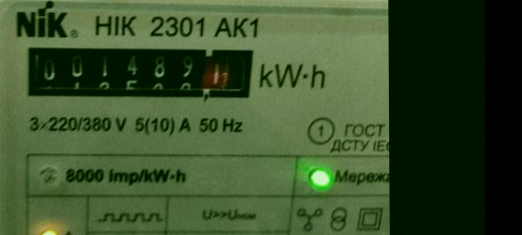0: (68, 54, 84, 79), (41, 58, 56, 83)
1: (97, 53, 111, 82), (209, 58, 221, 88)
4: (124, 54, 140, 80)
8: (150, 54, 167, 81)
9: (179, 56, 194, 81)
screen: (12, 37, 268, 115)
